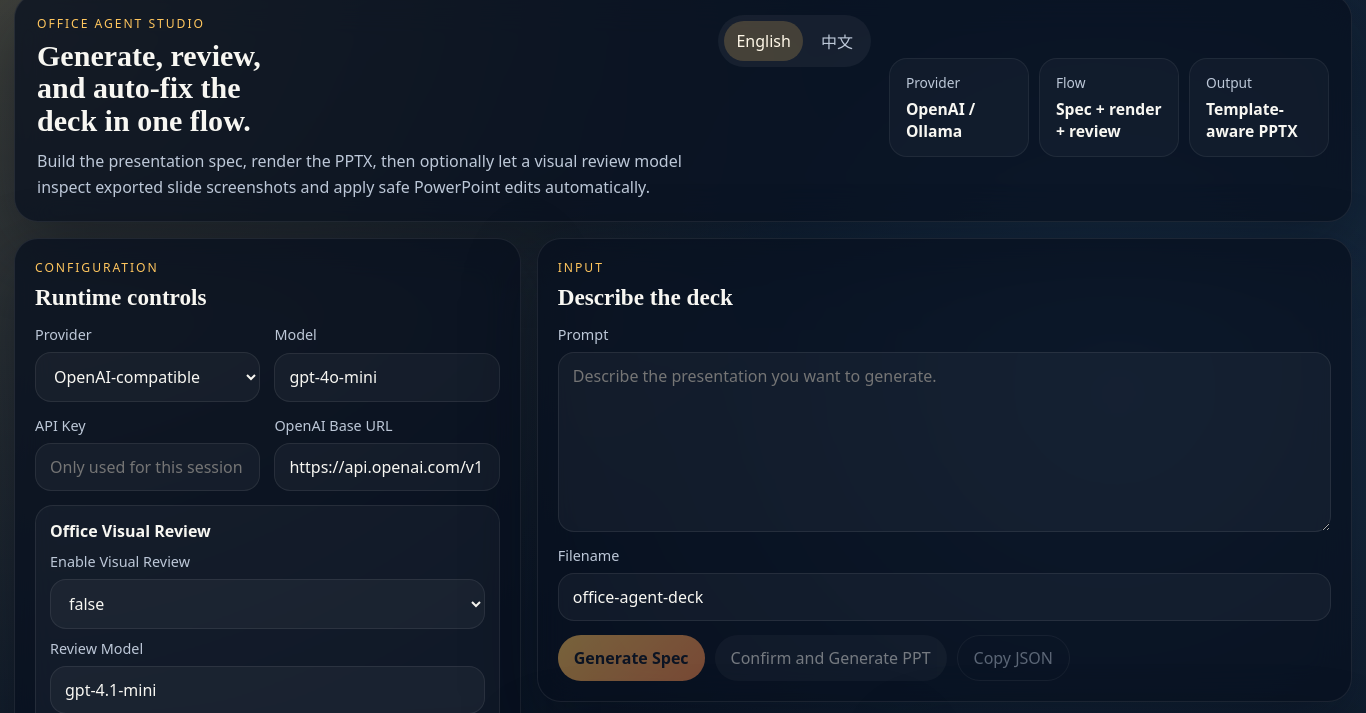
Test: App › supports language switching
The width and height of the screenshot is (1366, 713).
What coordinates should you click on to do the following:
click the button "中文"
I would click on:
 (837, 41)
Its box is [809,21,865,61].
(page scrolled)
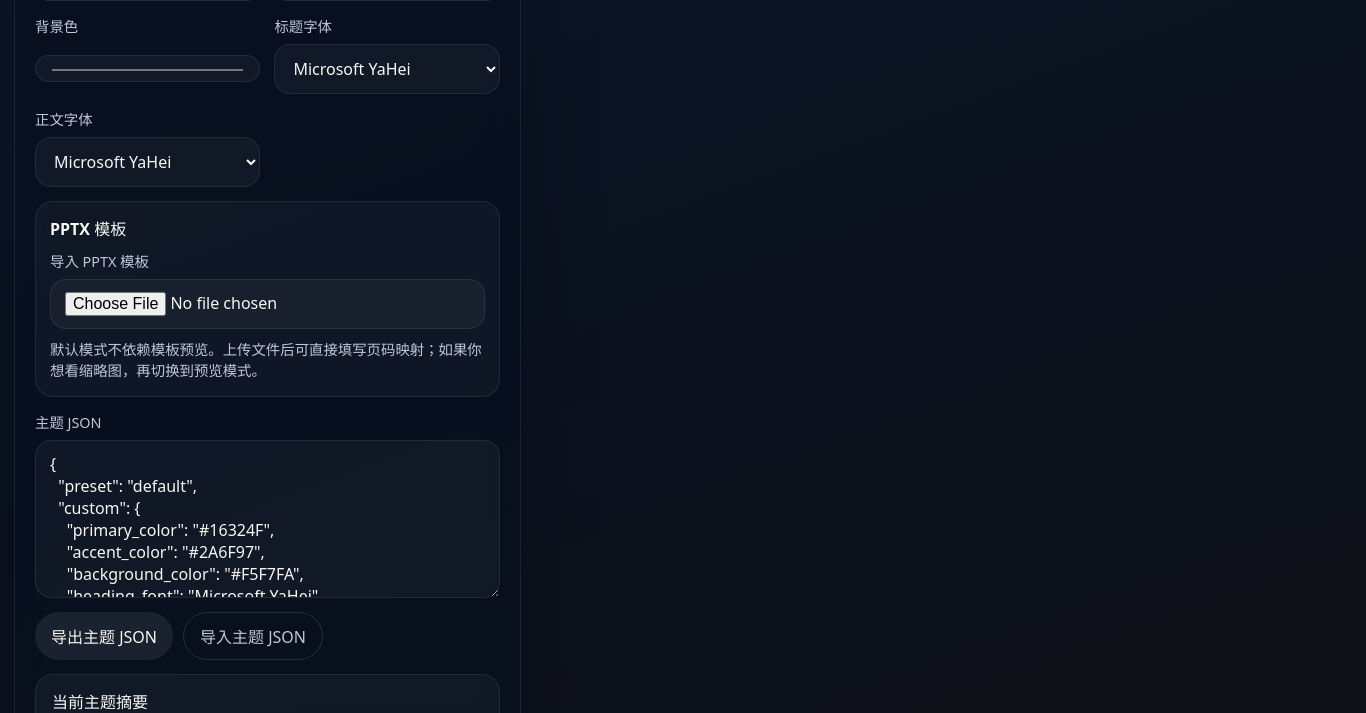
Expected: the text "默认模式不依赖模板预览。上传文件后可直接填写页码映射；如果你想看缩略图，再切换到预览模式。" is shown, [50,339,485,382]
